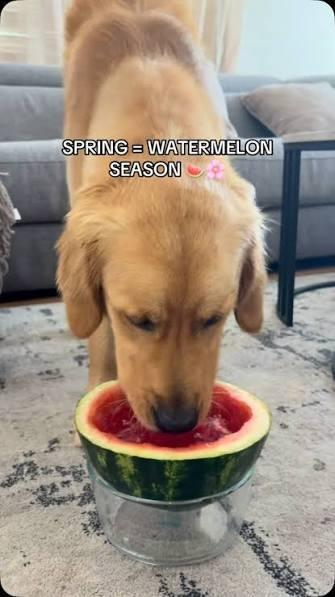adult_dog: (52, 1, 270, 434)
